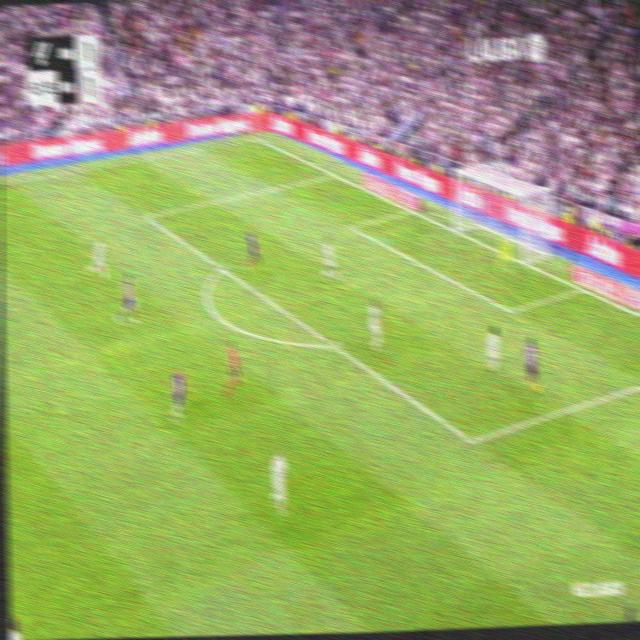bigarea_bottom_inner: (464, 426, 479, 454)
bigarea_top_inner: (141, 209, 150, 223)
bigarea_top_outter: (327, 167, 337, 180)
bottom_arc_area_intersection: (326, 333, 340, 356)
corner: (248, 129, 262, 142)
smallarea_bottom_inner: (504, 298, 516, 319)
smallarea_top_inner: (346, 220, 355, 233)
top_arc_area_intersection: (215, 259, 227, 275)
